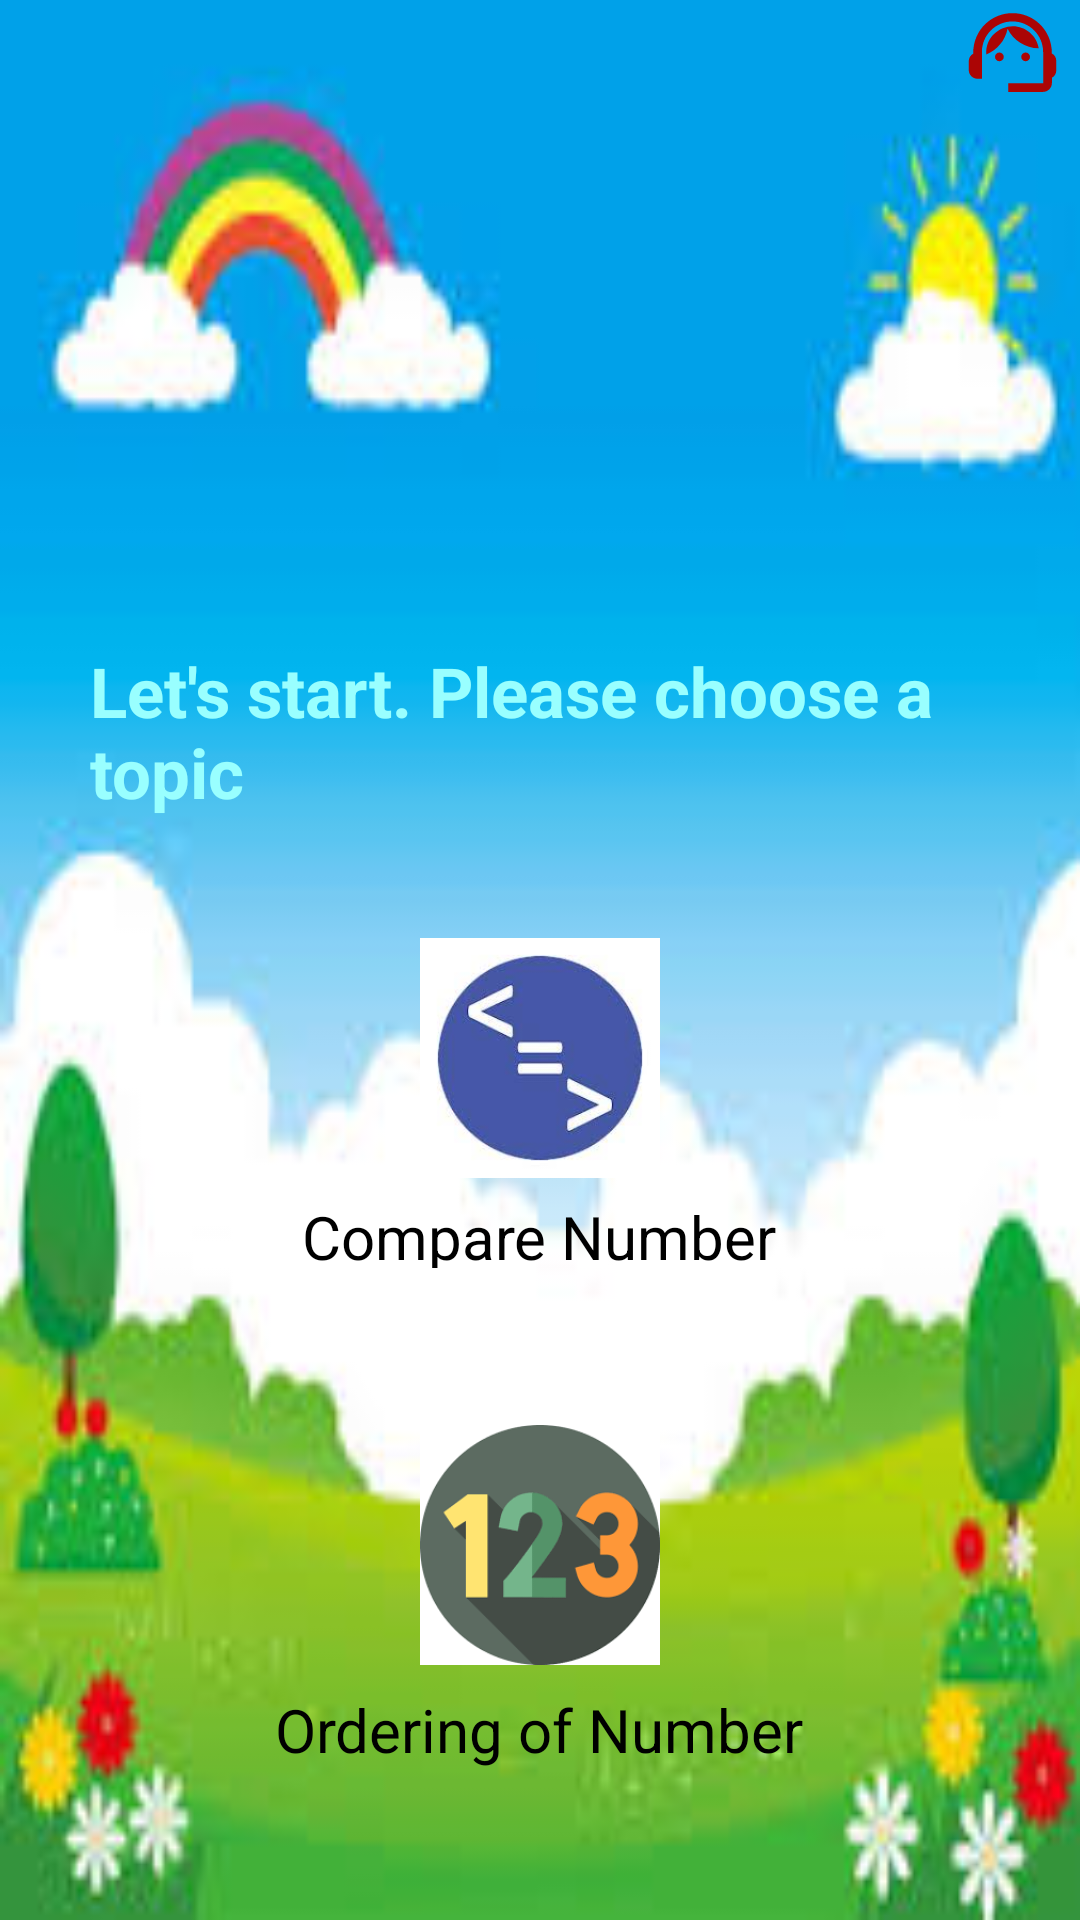

Where to tap for icons on this 1080x1920 app screen, as [x,y]:
support agent: [1012,52]
